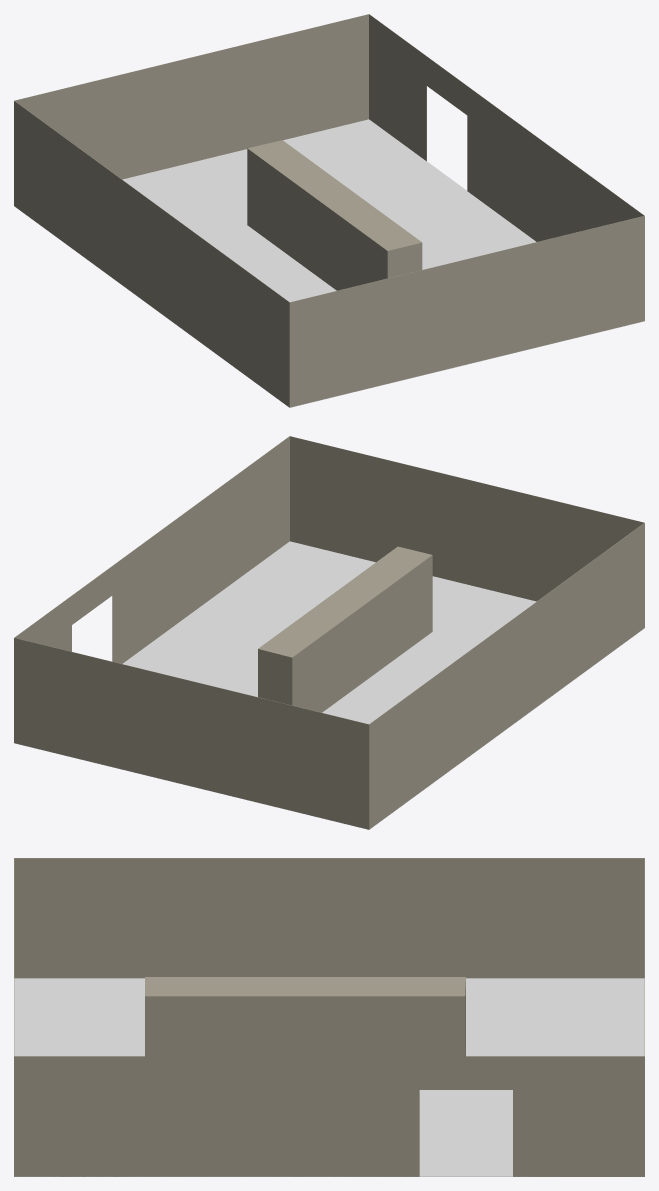
The model's file is room.fbx.
3 views of the same model, one above another, from view 1: azimuth 30°, elevation 25°; view 2: azimuth 150°, elevation 25°; view 3: azimuth 270°, elevation 25° (orthographic). The views are drawn at different scales.
Visible parts, largest first — view 1: Walls.001, Walls.003, Walls.004, Floor, Walls.002, Inner wall; view 2: Walls.003, Walls.001, Walls.004, Floor, Walls.002, Inner wall; view 3: Walls.004, Walls.002, Floor, Inner wall.
Part boxes in pixels (x1,y1,x2,y2): Walls.001: (289, 216, 644, 407); Walls.003: (14, 14, 368, 205); Walls.004: (14, 101, 289, 407); Floor: (14, 119, 644, 407); Walls.002: (369, 14, 644, 277); Inner wall: (247, 140, 422, 290); Walls.003: (14, 638, 369, 829); Walls.001: (290, 436, 644, 627); Walls.004: (369, 522, 644, 829); Floor: (14, 541, 644, 829); Walls.002: (14, 436, 289, 742); Inner wall: (258, 546, 432, 712); Walls.004: (14, 858, 644, 978); Walls.002: (14, 1056, 644, 1176); Floor: (14, 978, 644, 1176); Inner wall: (145, 977, 465, 1056).
Bounding box in the file's own units: 1013 × 287 × 1362.
